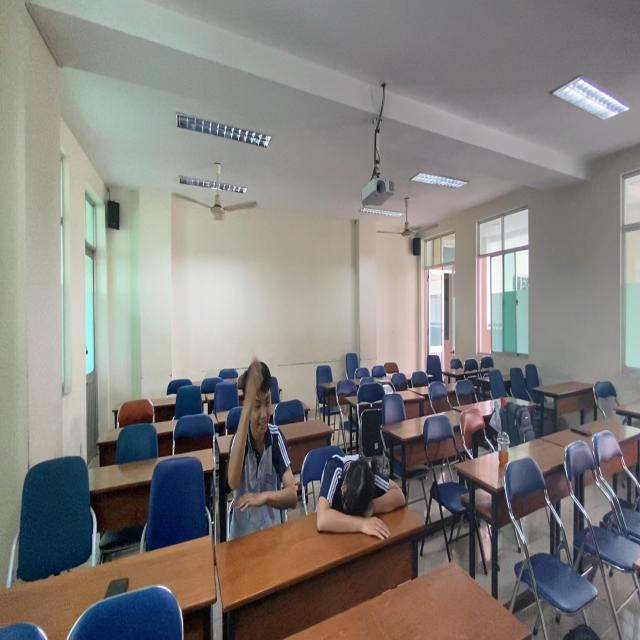raise_hand: (223, 349, 302, 521)
sleep: (316, 444, 411, 550)
